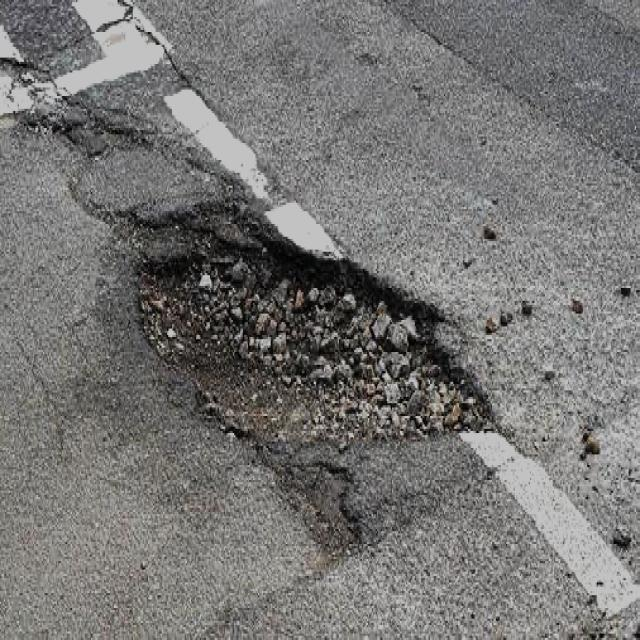pothole: (121, 182, 506, 528)
